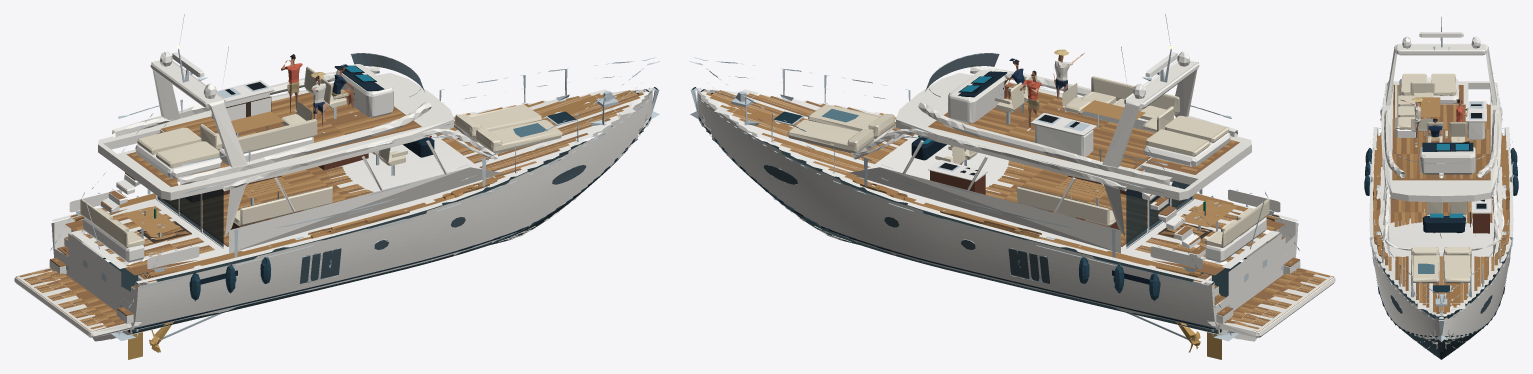
The model's file is princess60-nharong-lod1.glb.
The picture shows the model from 3 angles, left to right: view 1: azimuth 30°, elevation 25°; view 2: azimuth 150°, elevation 25°; view 3: azimuth 270°, elevation 25°; orthographic projection. The views are drawn at different scales.
Parts seen in each view (by area): view 1: lod1-0, lod1-8, lod1-10, lod1-7, lod1-5, lod1-6, lod1-3, lod1-4, lod1-2, lod1-1, lod1-18, lod1-15 (+1 smaller); view 2: lod1-0, lod1-8, lod1-10, lod1-5, lod1-7, lod1-6, lod1-3, lod1-4, lod1-2, lod1-1, lod1-15, lod1-18 (+1 smaller); view 3: lod1-0, lod1-8, lod1-10, lod1-5, lod1-7, lod1-6, lod1-3, lod1-1, lod1-2, lod1-18, lod1-15, lod1-14 (+3 smaller).
Part boxes in pixels (<box>): lod1-0: <box>14,60,652,341</box>; lod1-8: <box>52,51,652,283</box>; lod1-10: <box>80,66,562,247</box>; lod1-7: <box>16,87,643,331</box>; lod1-5: <box>19,89,639,329</box>; lod1-6: <box>28,90,644,326</box>; lod1-3: <box>34,14,659,340</box>; lod1-4: <box>144,53,586,283</box>; lod1-2: <box>108,127,645,334</box>; lod1-1: <box>103,64,651,329</box>; lod1-18: <box>138,196,271,301</box>; lod1-15: <box>186,153,368,229</box>; lod1-0: <box>697,60,1335,341</box>; lod1-8: <box>697,51,1297,283</box>; lod1-10: <box>787,73,1269,247</box>; lod1-5: <box>706,84,1330,329</box>; lod1-7: <box>712,89,1333,331</box>; lod1-6: <box>705,90,1326,326</box>; lod1-3: <box>690,14,1299,341</box>; lod1-4: <box>763,53,1205,283</box>; lod1-2: <box>704,127,1241,334</box>; lod1-1: <box>698,58,1246,329</box>; lod1-15: <box>930,170,1159,229</box>; lod1-18: <box>1078,196,1248,301</box>; lod1-0: <box>1370,43,1512,355</box>; lod1-8: <box>1369,32,1513,317</box>; lod1-10: <box>1394,73,1471,283</box>; lod1-5: <box>1373,85,1509,313</box>; lod1-7: <box>1385,85,1492,313</box>; lod1-6: <box>1388,85,1494,314</box>; lod1-3: <box>1369,16,1513,341</box>; lod1-1: <box>1376,119,1506,337</box>; lod1-2: <box>1377,258,1505,359</box>; lod1-18: <box>1364,148,1518,195</box>; lod1-15: <box>1393,199,1489,233</box>; lod1-14: <box>1435,101,1486,319</box>.
Size of the model in its own units: 18.38 by 8.42 by 5.19.
